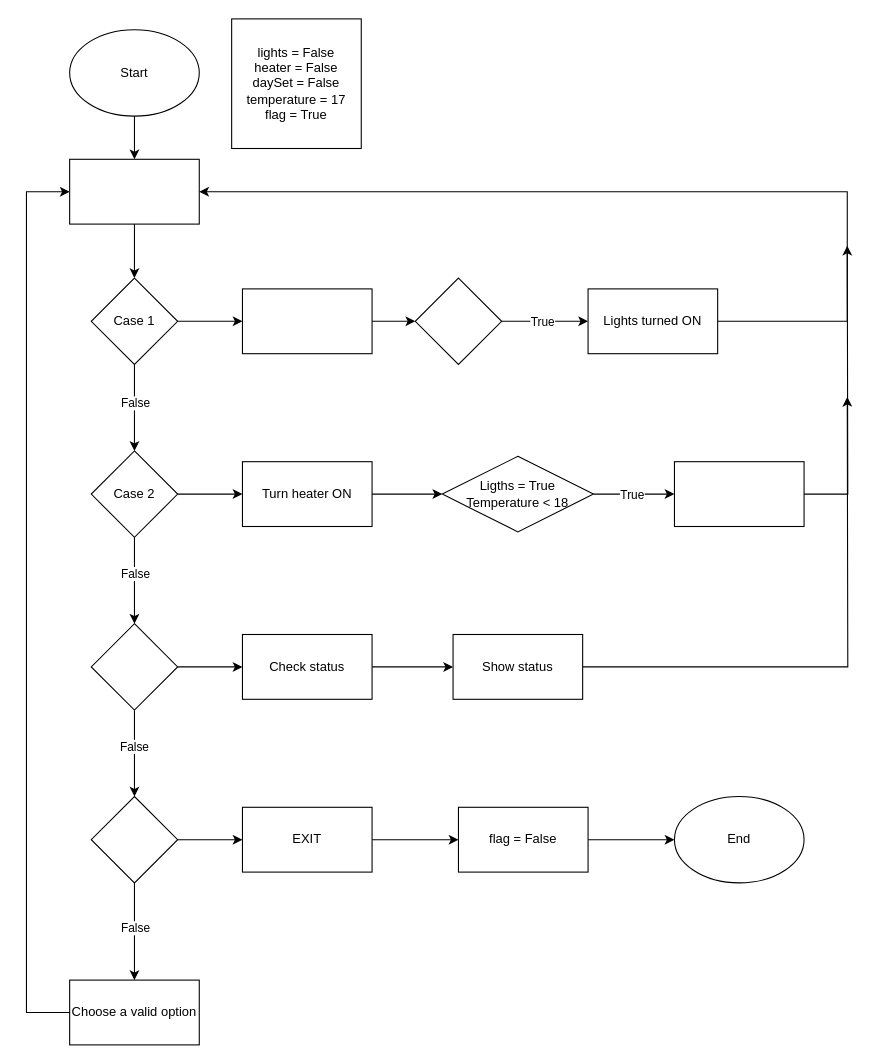
Some shapes in this 876 by 1064 pixel diagram are drawn without their labels. Here are the shapes that lost their labels. From the top down, the box of each, then its label:
(69, 158, 199, 224): Menu
(241, 288, 372, 354): Turn lights ON
(414, 277, 502, 364): Day set = False
(673, 461, 804, 526): Heater turned ON
(90, 623, 178, 710): Case 3
(90, 795, 178, 883): Case 4
